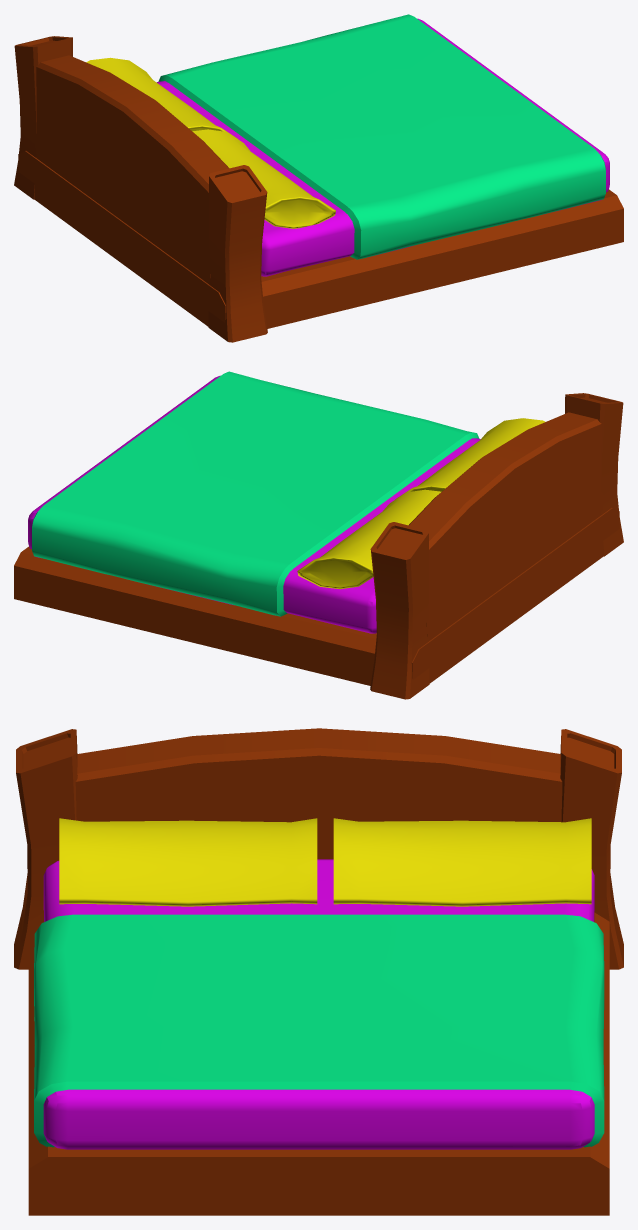
File: bed2.fbx
The picture shows the model from 3 angles, top to bottom: view 1: azimuth 30°, elevation 25°; view 2: azimuth 150°, elevation 25°; view 3: azimuth 270°, elevation 25°; orthographic projection. The views are drawn at different scales.
Parts seen in each view (by area): view 1: Bed1; view 2: Bed1; view 3: Bed1.
Part boxes in pixels (bbox=[...]): Bed1: bbox=[14, 14, 623, 342]; Bed1: bbox=[14, 371, 623, 699]; Bed1: bbox=[14, 728, 623, 1215].
Size of the model in its own units: 200 by 74.46 by 189.
